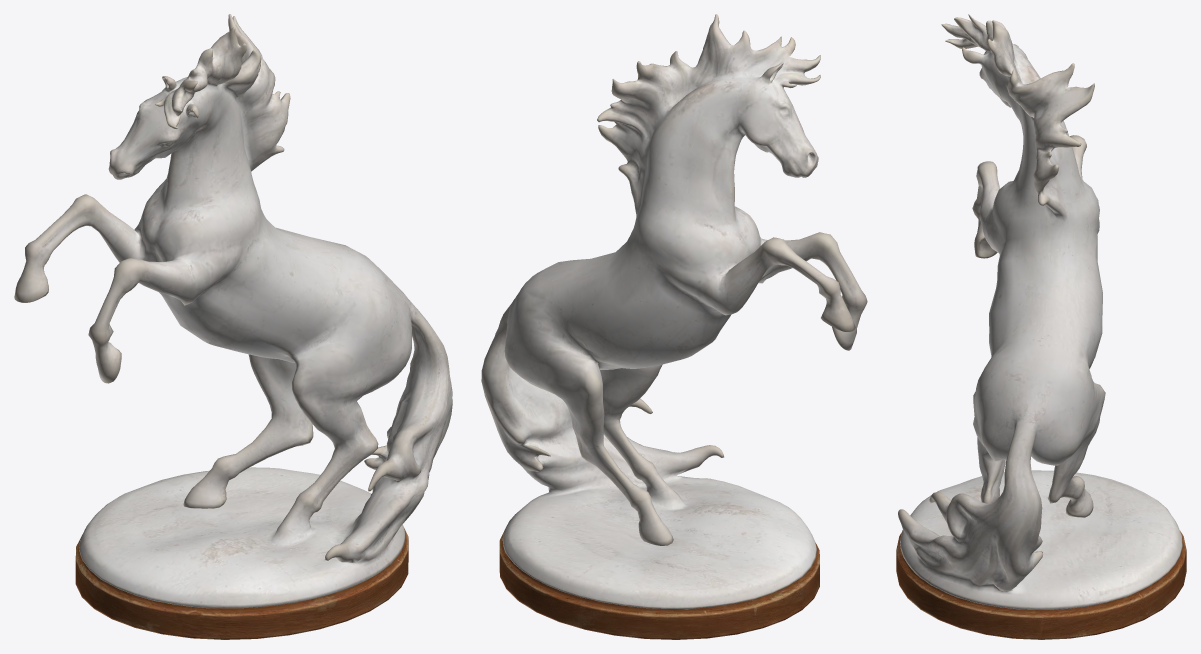
File: horse_statue_01.gltf
The picture shows the model from 3 angles, left to right: view 1: azimuth 30°, elevation 25°; view 2: azimuth 150°, elevation 25°; view 3: azimuth 270°, elevation 25°; orthographic projection. The views are drawn at different scales.
Visible parts, largest first — view 1: horse_statue_01; view 2: horse_statue_01; view 3: horse_statue_01.
Boxes of the visible parts, x1,y1,x2,y2 form: horse_statue_01: (14,14,452,639); horse_statue_01: (481,14,867,639); horse_statue_01: (896,14,1186,639).
Bounding box in the file's own units: 0.1638 × 0.22 × 0.1078.
2 materials, 2 textured.
